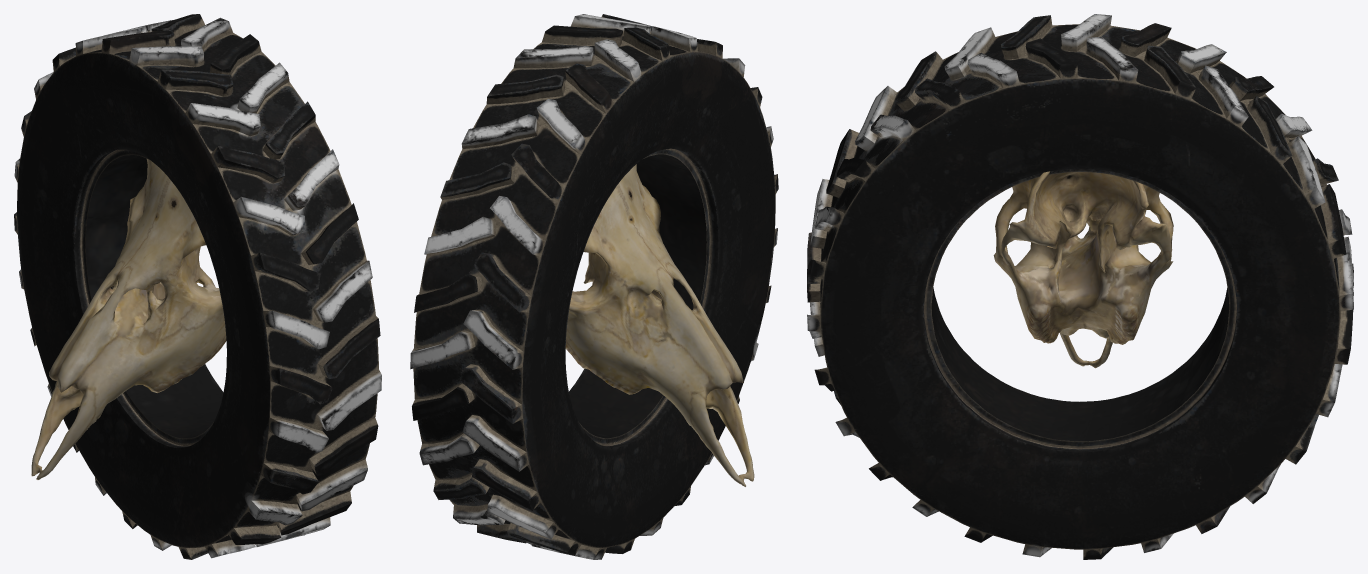
Rendered from Prop_Truck_Wheel.fbx.
3 renders of one model, left to right at view 1: azimuth 30°, elevation 25°; view 2: azimuth 150°, elevation 25°; view 3: azimuth 270°, elevation 25°, orthographic. The views are drawn at different scales.
Parts seen in each view (by area): view 1: Truck_Wheel, DeerSkull; view 2: Truck_Wheel, DeerSkull; view 3: Truck_Wheel, DeerSkull.
Boxes of the visible parts, box(x1,y1,x2,y2) form: Truck_Wheel: box(14, 14, 381, 559); DeerSkull: box(31, 159, 226, 479); Truck_Wheel: box(410, 14, 778, 559); DeerSkull: box(565, 164, 754, 486); Truck_Wheel: box(807, 14, 1353, 559); DeerSkull: box(993, 171, 1173, 368).
Bounding box in the file's own units: 26.81 × 56.55 × 56.55.
